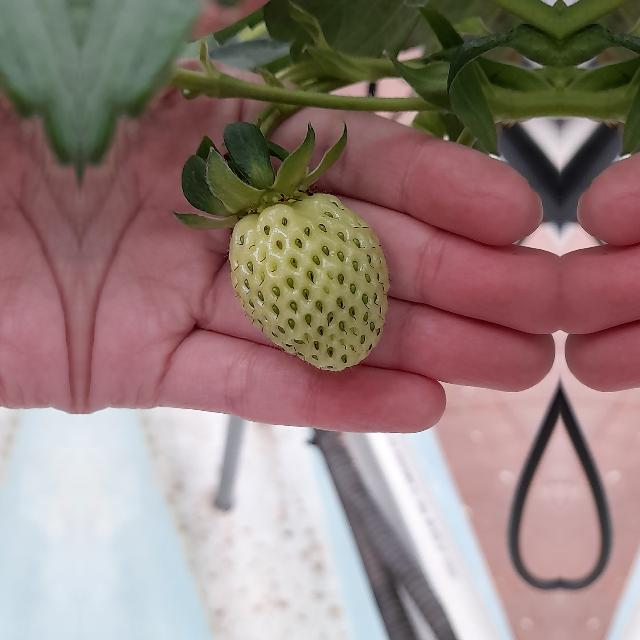Health_25: (228, 192, 390, 372)
